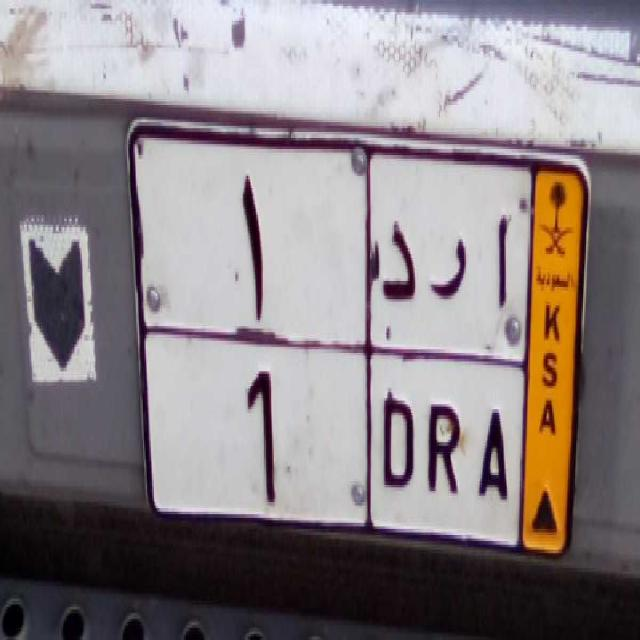license_plate: (139, 328, 521, 544)
